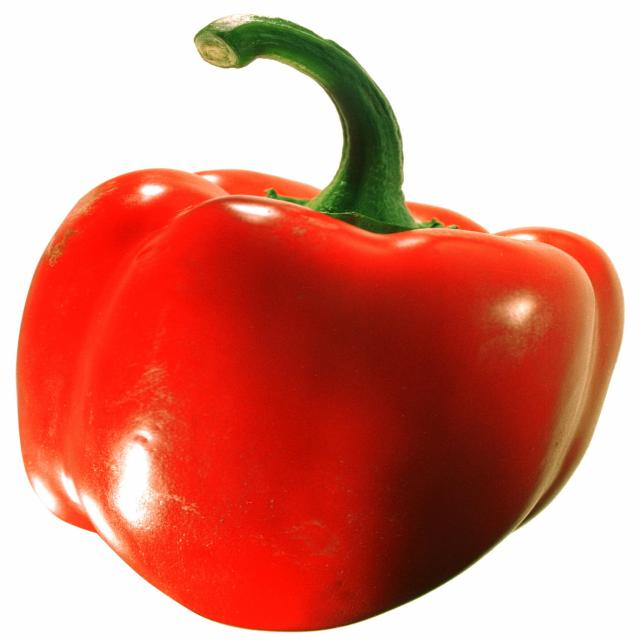bell pepper: (8, 49, 640, 640)
